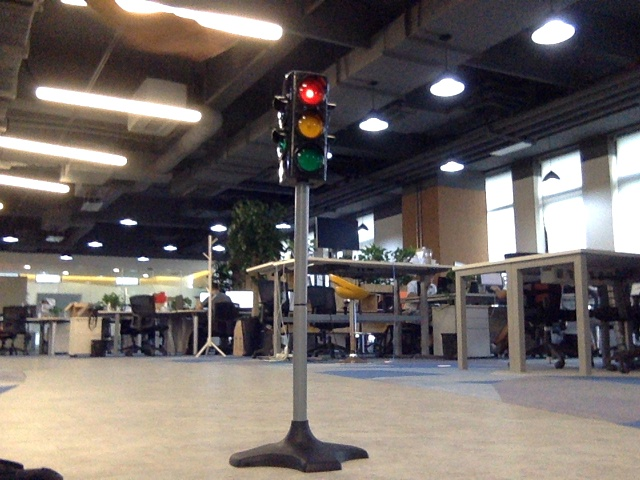red: (292, 71, 325, 176)
